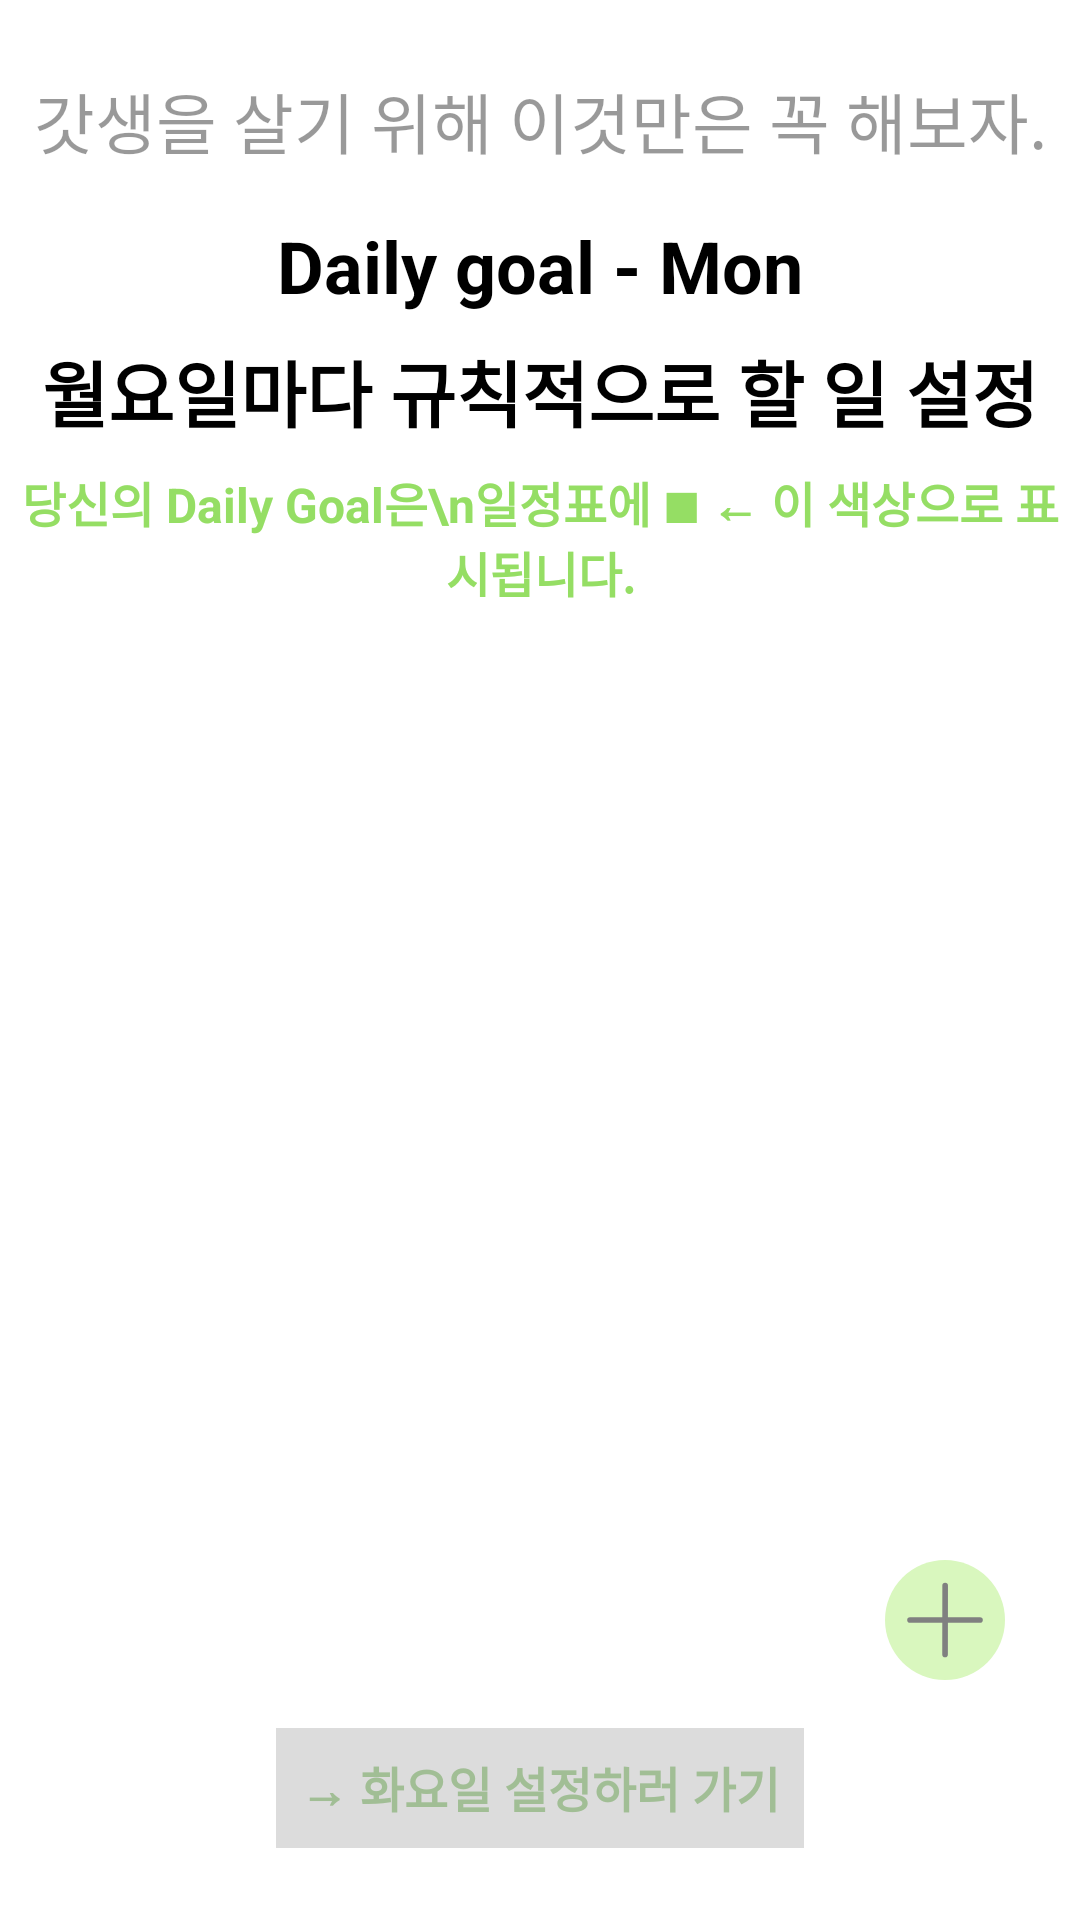

Locate icon controls on the screen. Image size 1080px×1920px, boxes as bbox=(x1, y1, x2, y2).
add: bbox=(885, 1560, 1005, 1680)
